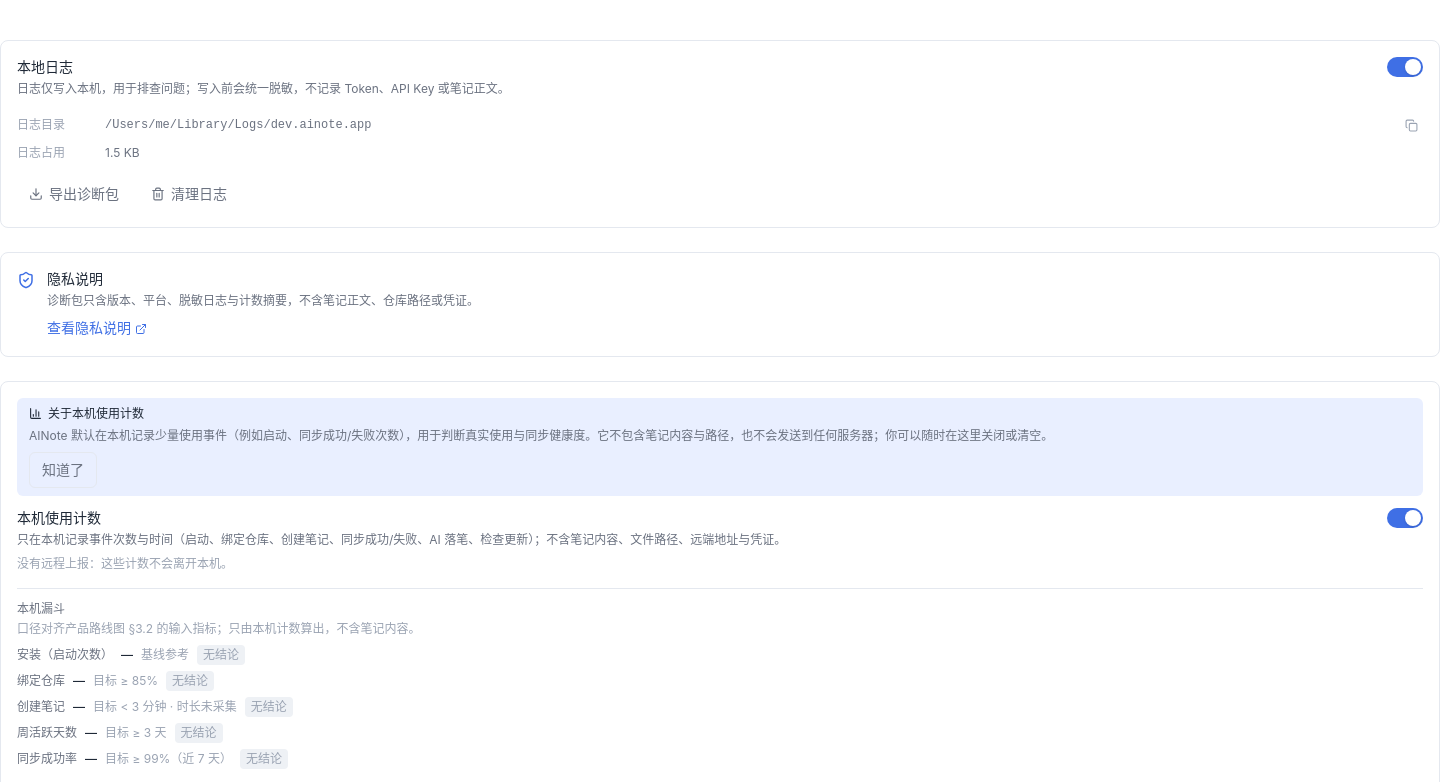
SupportSettings 清理与隐私 › 清理日志需二次确认并提示释放空间
Check: the text "1.5 KB" is shown, box [105,145,140,161]
Click the button "清理日志": {"x": 189, "y": 194} [139,177,239,211]
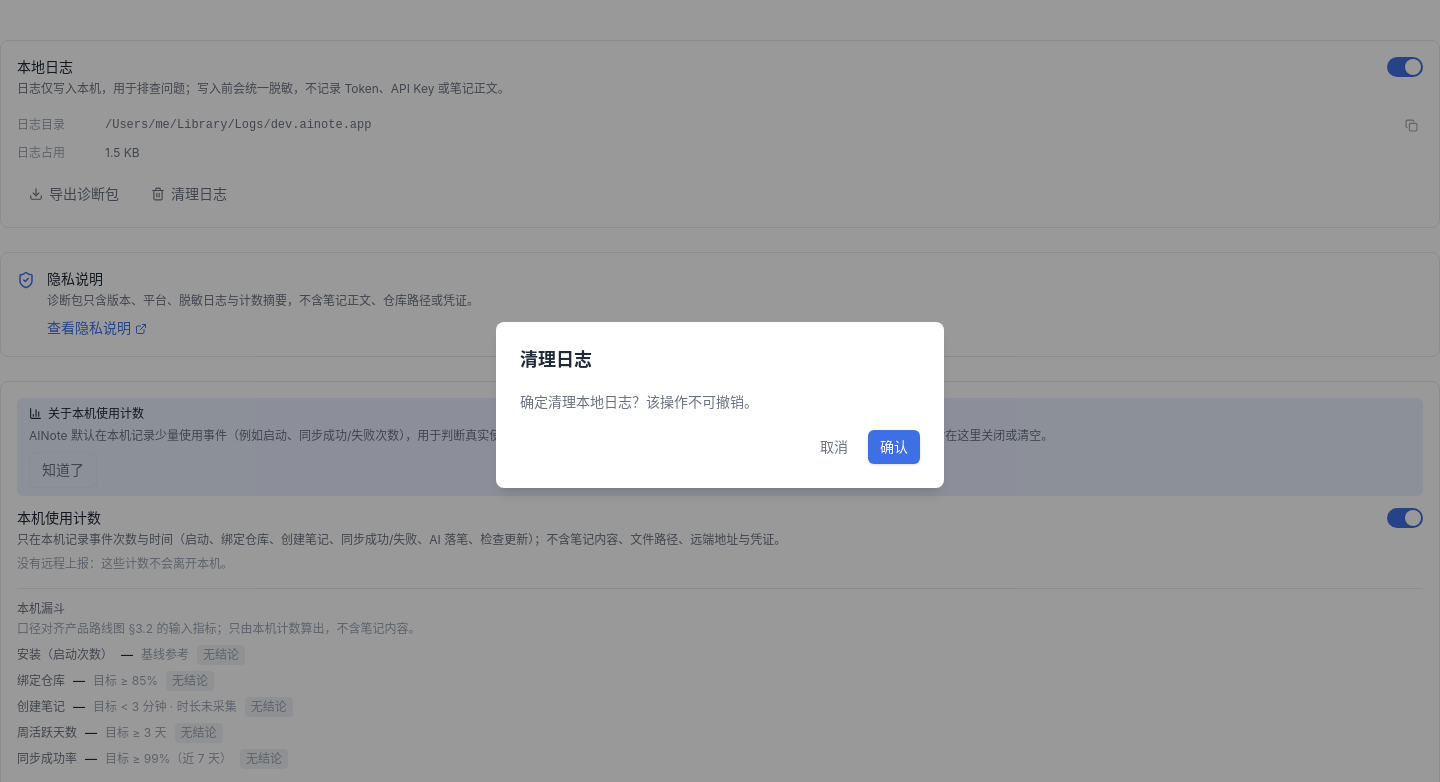
Check: the dialog "清理日志" shows "该操作不可撤销", box [520,393,758,410]
Click the button "确认": {"x": 894, "y": 447} [868,430,920,464]
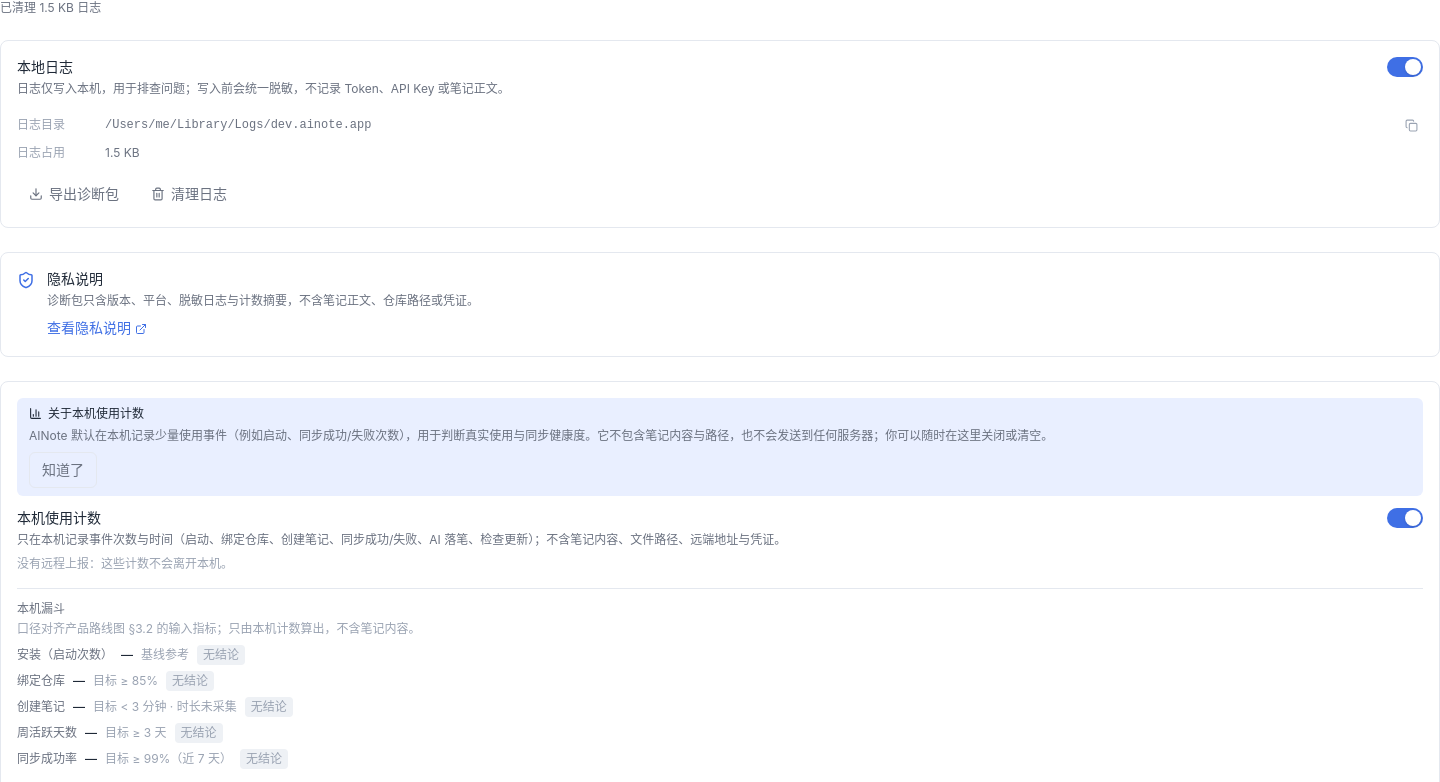
Check: the text "已清理 1.5 KB 日志" is shown, box [0,0,101,15]
